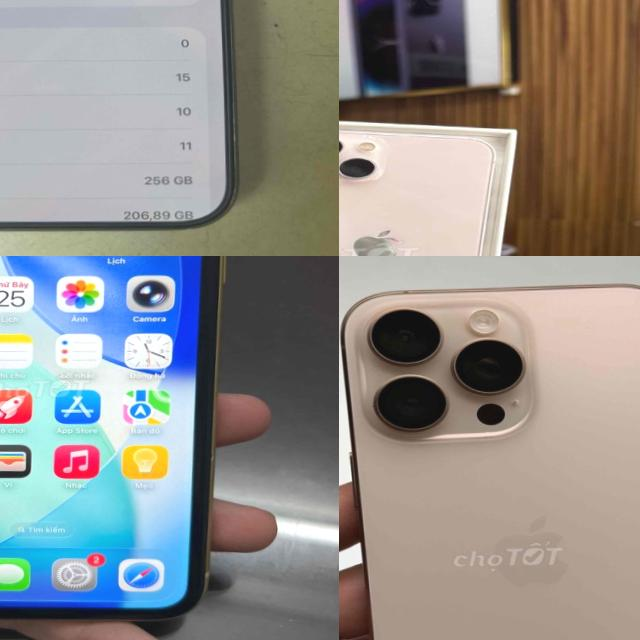gen_11: (0, 256, 237, 626)
gen_12_13: (339, 123, 510, 256)
gen_15: (0, 0, 269, 247)
gen_16: (339, 268, 640, 640)
scratch: (225, 112, 243, 144), (222, 182, 242, 208)
